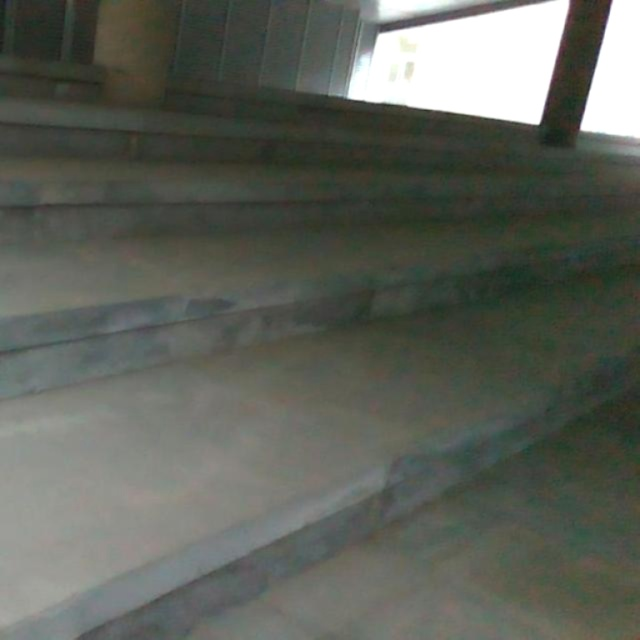stair: (6, 99, 640, 571)
